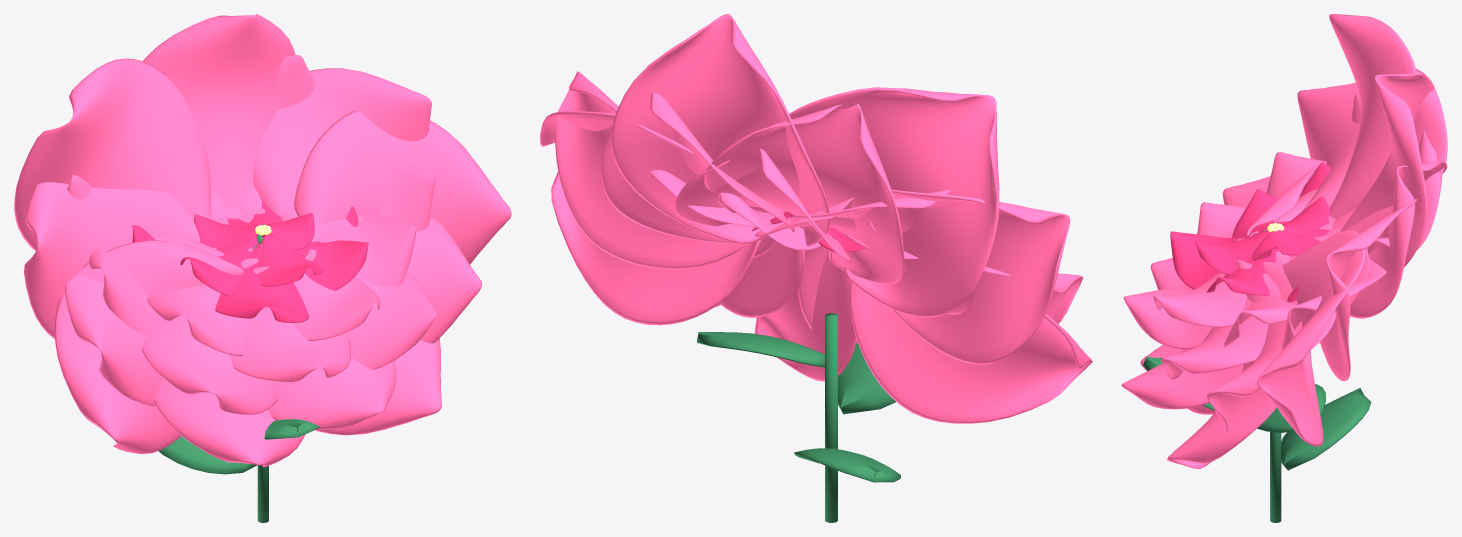
Rendered from magic_flower.glb.
The picture shows the model from 3 angles, left to right: view 1: azimuth 30°, elevation 25°; view 2: azimuth 150°, elevation 25°; view 3: azimuth 270°, elevation 25°; orthographic projection. The views are drawn at different scales.
Parts seen in each view (by area): view 1: Blossom_Head, Stem_Group; view 2: Blossom_Head, Stem_Group; view 3: Blossom_Head, Stem_Group.
Boxes of the visible parts, box(x1,y1,x2,y2) form: Blossom_Head: box(14, 14, 511, 467); Stem_Group: box(158, 419, 319, 522); Blossom_Head: box(540, 14, 1092, 423); Stem_Group: box(697, 313, 900, 522); Blossom_Head: box(1121, 14, 1447, 468); Stem_Group: box(1142, 356, 1371, 522).
Size of the model in its own units: 3.55 by 3.42 by 2.19.
